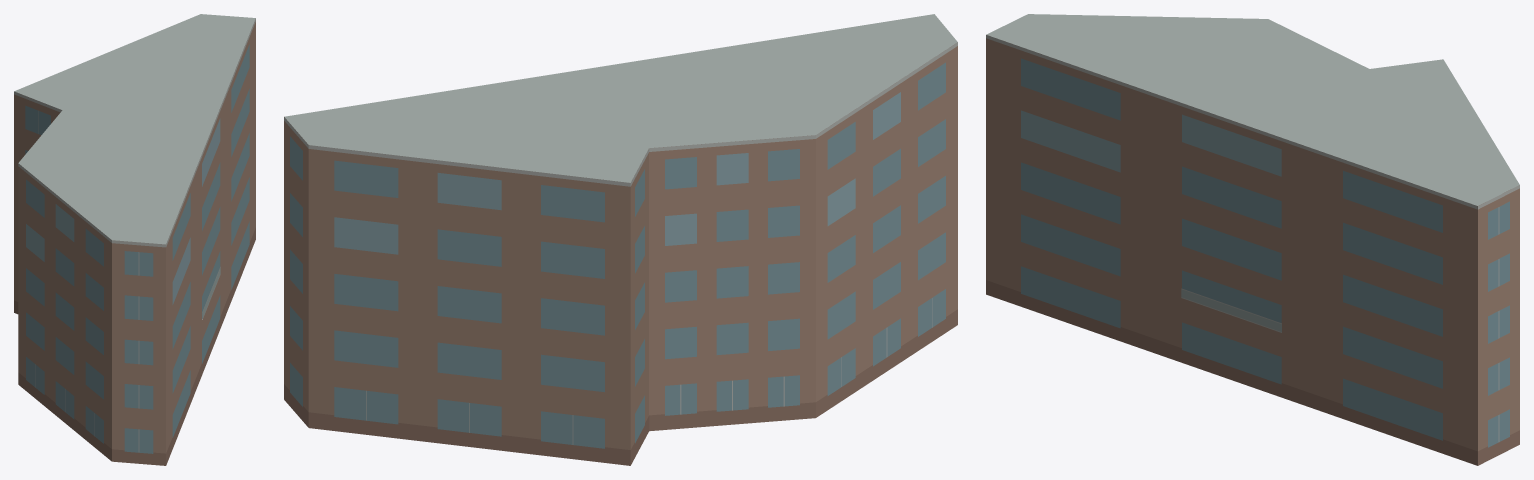
File: survey-upis-32521065.glb
The picture shows the model from 3 angles, left to right: view 1: azimuth 30°, elevation 25°; view 2: azimuth 150°, elevation 25°; view 3: azimuth 270°, elevation 25°; orthographic projection. The views are drawn at different scales.
Parts seen in each view (by area): view 1: survey-upis-32521065.tmp; view 2: survey-upis-32521065.tmp; view 3: survey-upis-32521065.tmp.
Part boxes in pixels (x1,y1,x2,y2): survey-upis-32521065.tmp: (14, 14, 255, 465); survey-upis-32521065.tmp: (284, 14, 957, 465); survey-upis-32521065.tmp: (986, 14, 1519, 465).
Bounding box in the file's own units: 28.65 × 18.06 × 33.64.
